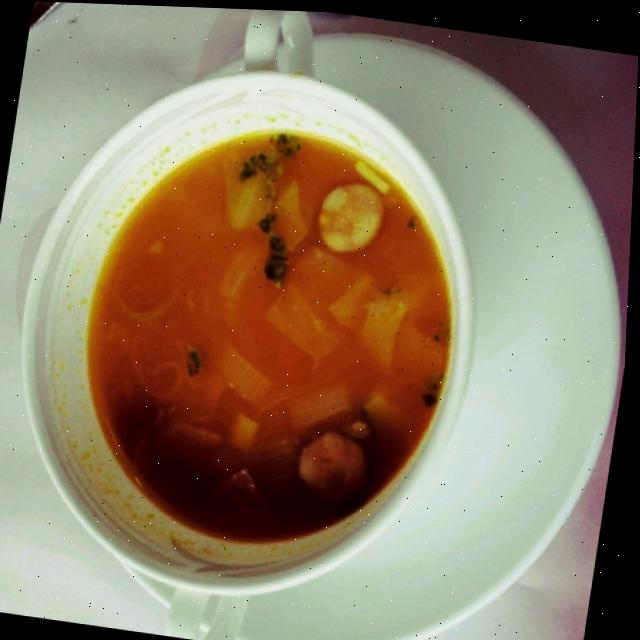三明治: (186, 6, 640, 537)
